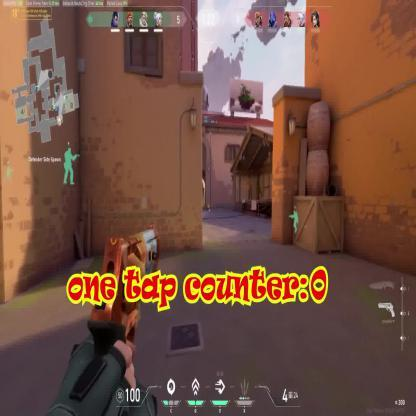enemy: (198, 178, 204, 206)
